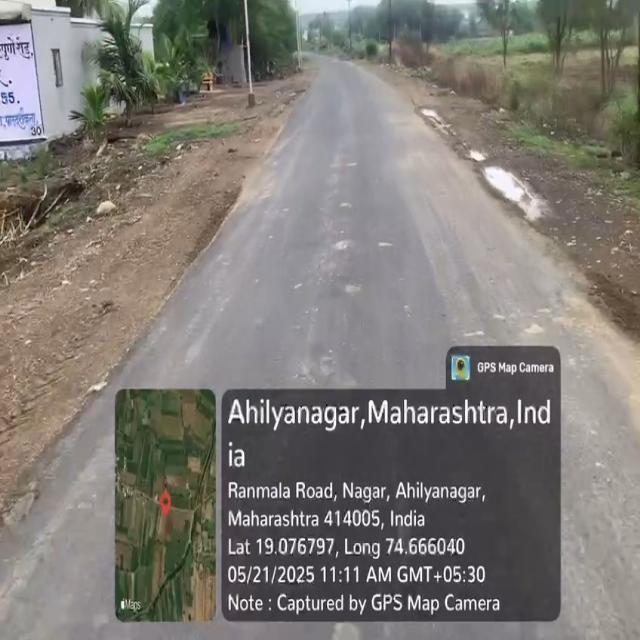pothole: (482, 157, 544, 225), (421, 102, 486, 162)
